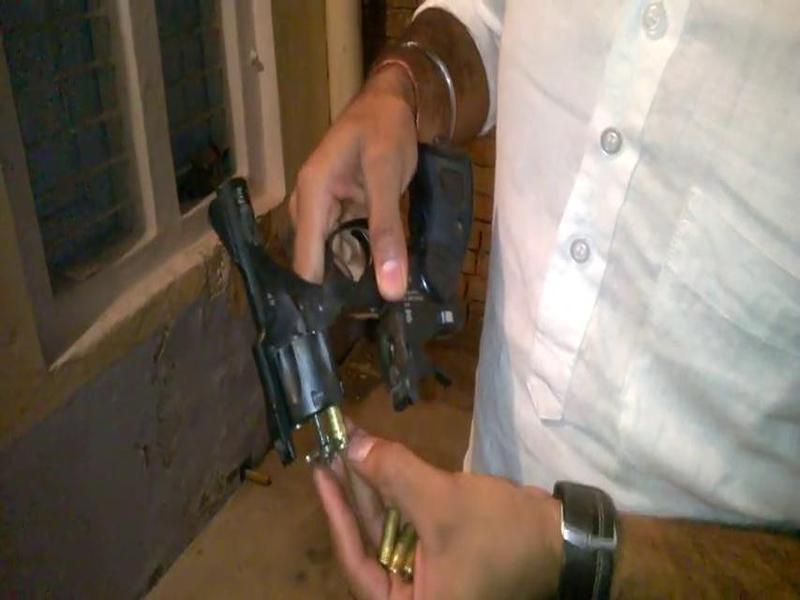Revolver: (188, 139, 380, 493)
